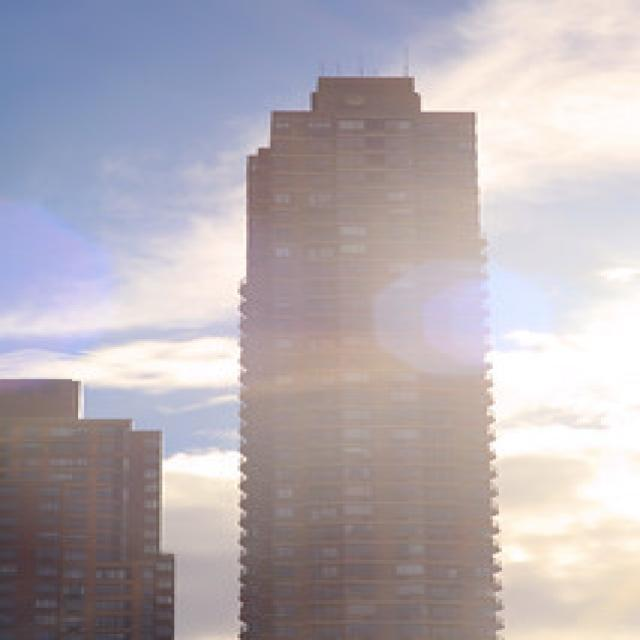Normal_building: (230, 67, 506, 639)
